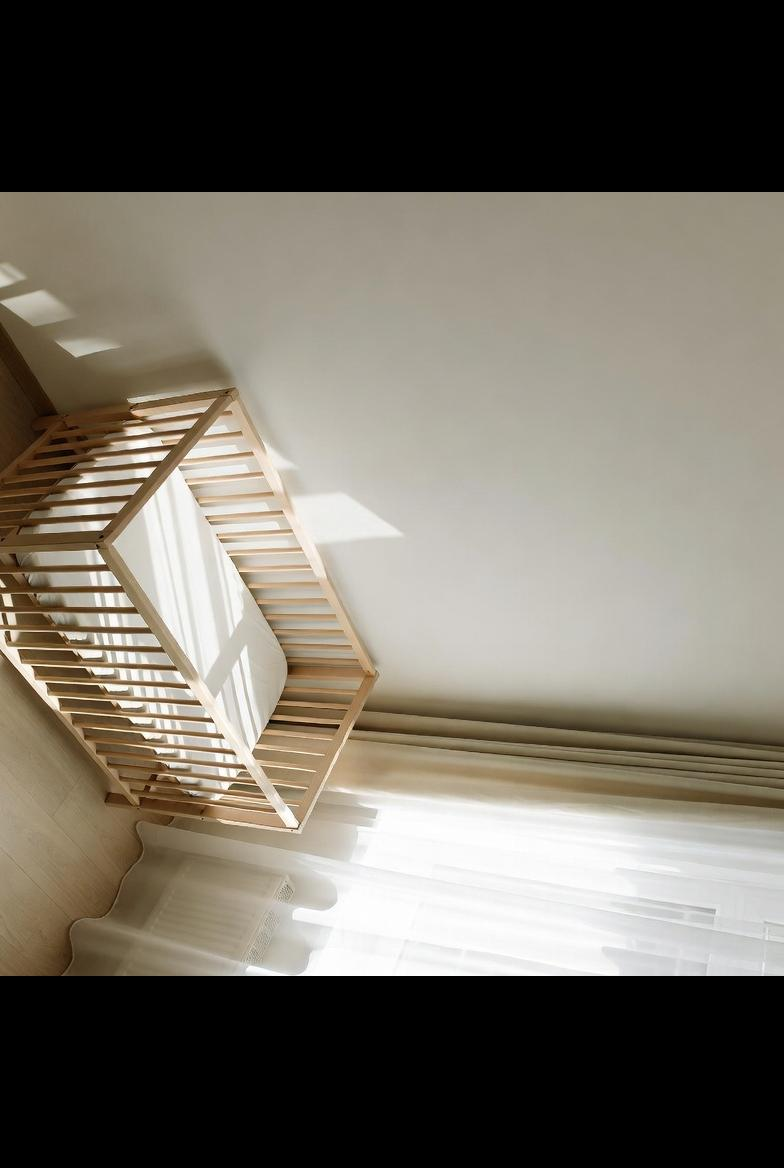crib: (0, 389, 376, 831)
